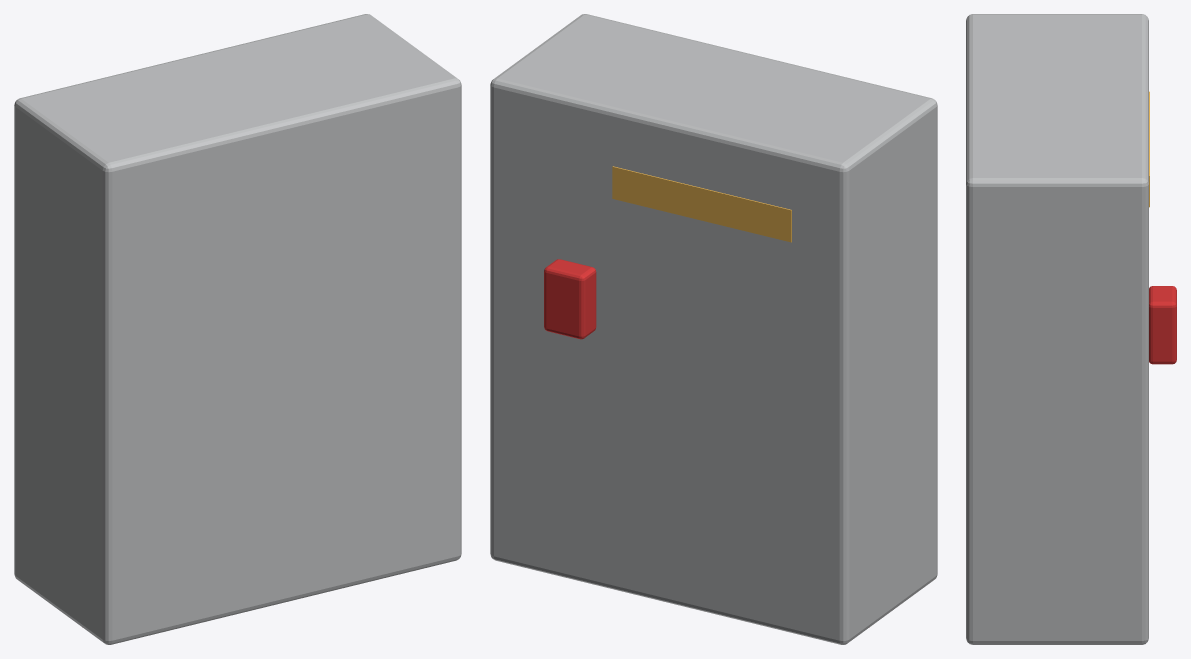
File: generic-combiner-6s.glb
The picture shows the model from 3 angles, left to right: view 1: azimuth 30°, elevation 25°; view 2: azimuth 150°, elevation 25°; view 3: azimuth 270°, elevation 25°; orthographic projection. The views are drawn at different scales.
Visible parts, largest first — view 1: body; view 2: body, label, handle; view 3: body, handle.
Part boxes in pixels (x1=…): body: x1=14, y1=14, x2=461, y2=644; body: x1=490, y1=14, x2=937, y2=644; label: x1=612, y1=166, x2=791, y2=242; handle: x1=544, y1=259, x2=596, y2=339; body: x1=966, y1=14, x2=1148, y2=644; handle: x1=1149, y1=286, x2=1176, y2=364.
Bounding box in the file's own units: 0.35 × 0.468 × 0.1845.
